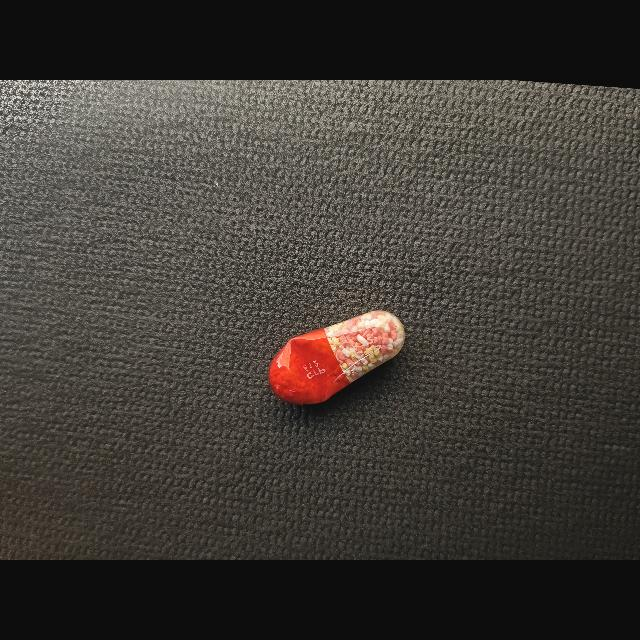Defective Capsule: (269, 310, 405, 405)
